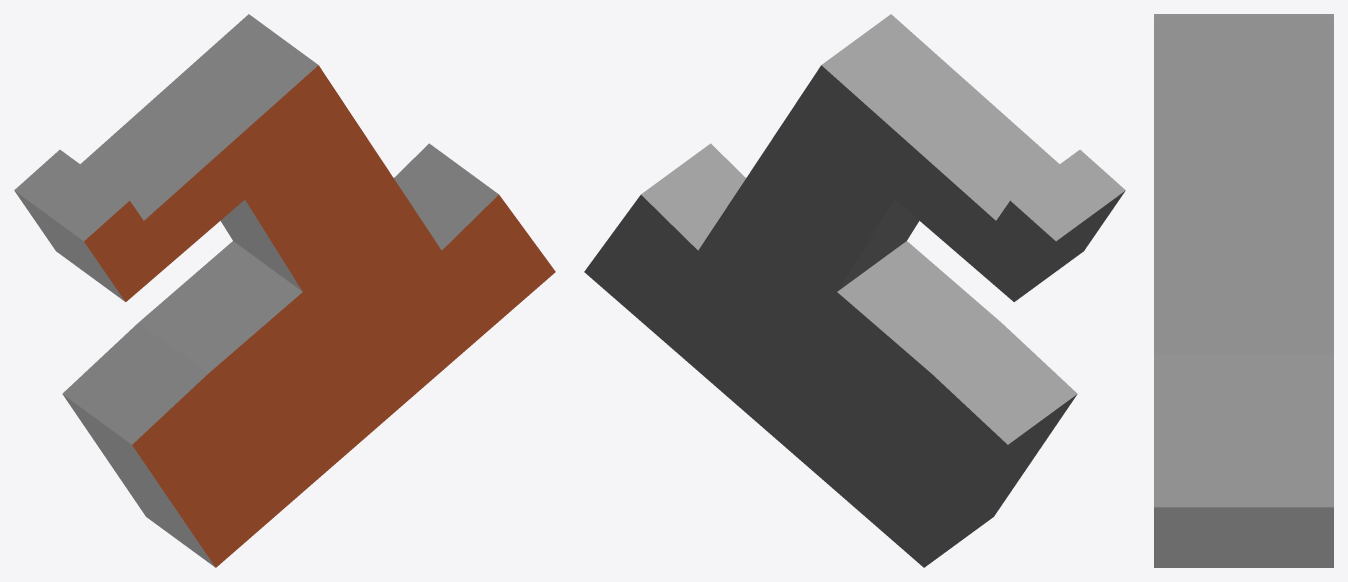
File: construction_1713_assumed_A_Casa_h6m.obj
3 renders of one model, left to right at view 1: azimuth 30°, elevation 25°; view 2: azimuth 150°, elevation 25°; view 3: azimuth 270°, elevation 25°, orthographic. The views are drawn at different scales.
Visible parts, largest first — view 1: construction_1713_assumed_A_Casa; view 2: construction_1713_assumed_A_Casa; view 3: construction_1713_assumed_A_Casa.
Boxes of the visible parts, bbox=[...] form: construction_1713_assumed_A_Casa: bbox=[14, 14, 555, 567]; construction_1713_assumed_A_Casa: bbox=[584, 14, 1125, 567]; construction_1713_assumed_A_Casa: bbox=[1154, 14, 1333, 567].
Bounding box in the file's own units: 23.41 × 22.65 × 6.
